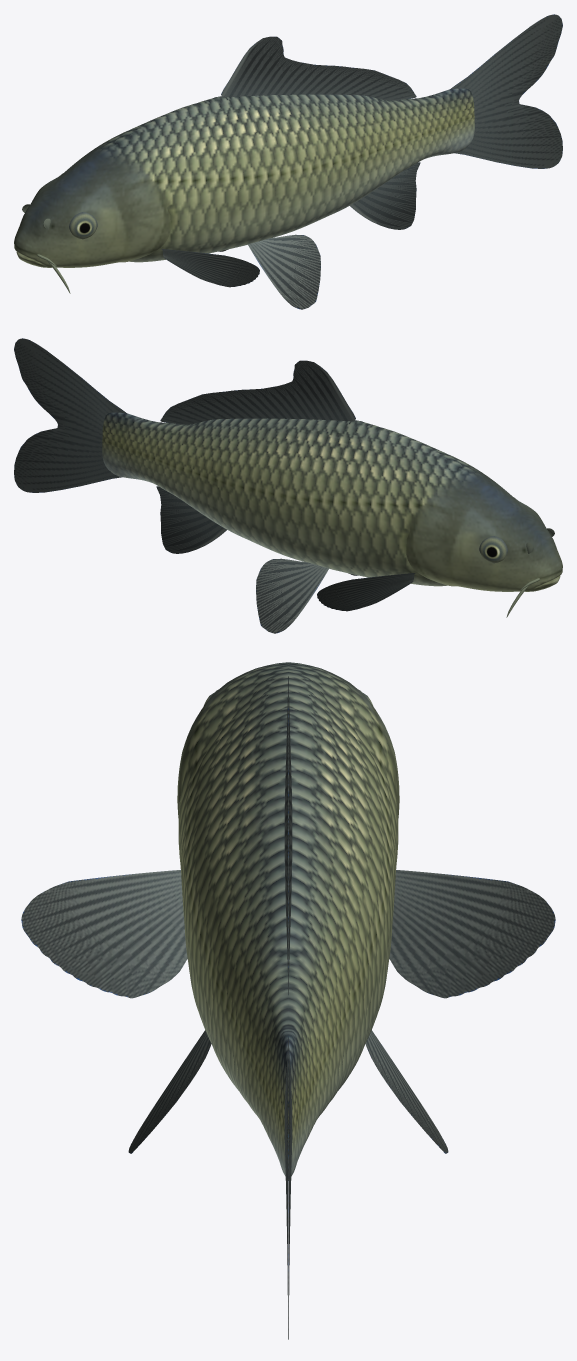
File: Fish_08.fbx
The picture shows the model from 3 angles, top to bottom: view 1: azimuth 30°, elevation 25°; view 2: azimuth 150°, elevation 25°; view 3: azimuth 270°, elevation 25°; orthographic projection. The views are drawn at different scales.
Visible parts, largest first — view 1: group1; view 2: group1; view 3: group1.
Part boxes in pixels (x1=…): group1: x1=14, y1=14, x2=562, y2=309; group1: x1=14, y1=338, x2=562, y2=633; group1: x1=21, y1=662, x2=555, y2=1339.
Size of the model in its own units: 0.3995 by 0.169 by 0.1689.
Materials: 1 (1 with a texture image).
